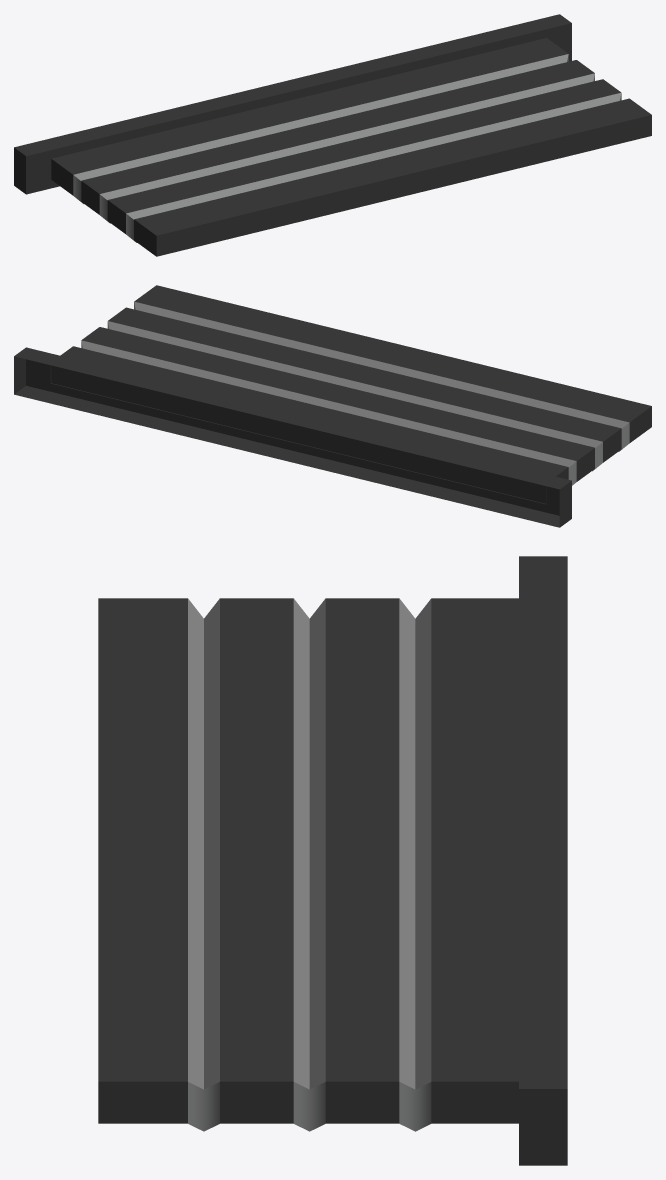
Rendered from Awning_A_02.FBX.
3 views of the same model, one above another, from view 1: azimuth 30°, elevation 25°; view 2: azimuth 150°, elevation 25°; view 3: azimuth 270°, elevation 25° (orthographic). The views are drawn at different scales.
Parts seen in each view (by area): view 1: Awning_A_02; view 2: Awning_A_02; view 3: Awning_A_02.
Boxes of the visible parts, left/top/right/bottom form: Awning_A_02: left=14, top=14, right=651, bottom=256; Awning_A_02: left=14, top=285, right=651, bottom=527; Awning_A_02: left=98, top=556, right=567, bottom=1165.
Bounding box in the file's own units: 2.36 × 0.1583 × 0.879.
